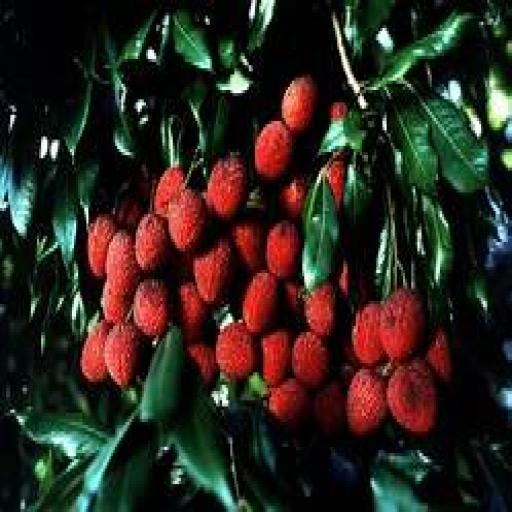lychee: (387, 360, 437, 434), (381, 289, 425, 359), (194, 239, 234, 304), (346, 370, 386, 434), (206, 156, 246, 220), (167, 190, 207, 251), (243, 270, 279, 335), (105, 323, 141, 387), (107, 230, 141, 297), (216, 323, 257, 378), (255, 122, 294, 179), (292, 333, 331, 387), (266, 221, 302, 279), (282, 75, 318, 133), (134, 280, 170, 338), (352, 301, 384, 366), (136, 215, 170, 273), (270, 379, 310, 428), (87, 215, 117, 279), (231, 218, 265, 273), (177, 283, 207, 344), (313, 382, 345, 437), (262, 329, 291, 387), (305, 283, 335, 338), (81, 320, 108, 381), (155, 168, 185, 217), (426, 329, 452, 384), (101, 280, 133, 322), (188, 342, 217, 387), (280, 177, 308, 220), (327, 156, 345, 211), (116, 196, 143, 232), (284, 280, 302, 316), (329, 100, 347, 121)
